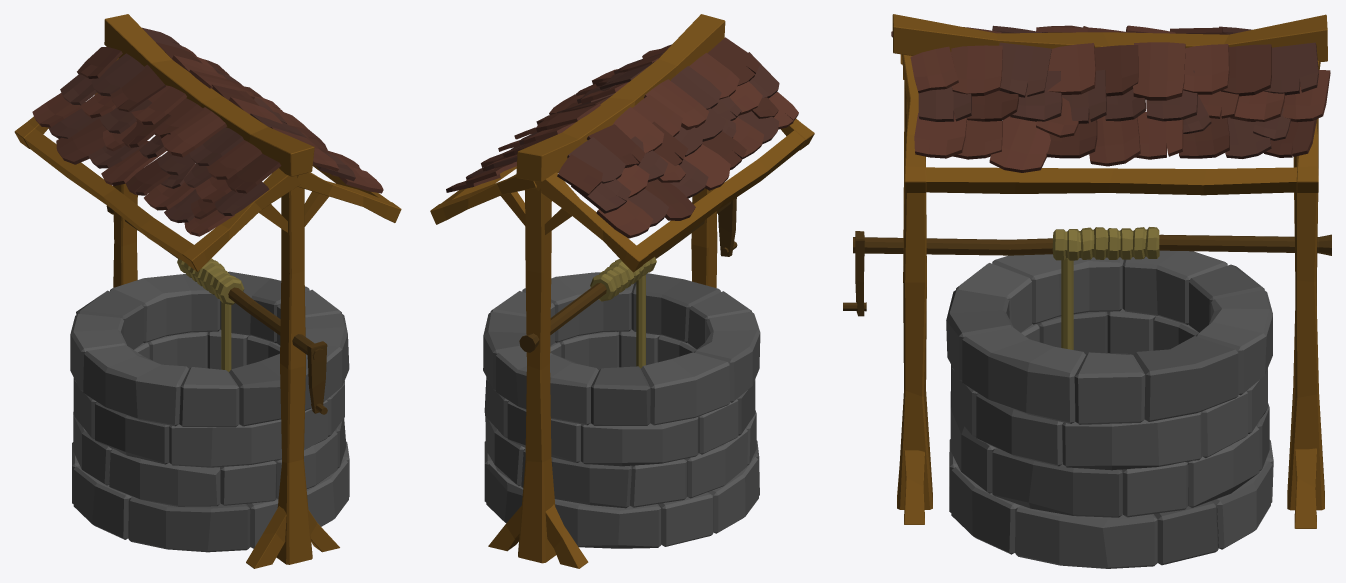
Rendered from well.fbx.
3 views of the same model, side by side, from view 1: azimuth 30°, elevation 25°; view 2: azimuth 150°, elevation 25°; view 3: azimuth 270°, elevation 25° (orthographic). The views are drawn at different scales.
Parts seen in each view (by area): view 1: Cube.002; view 2: Cube.002; view 3: Cube.002.
Boxes of the visible parts, x1,y1,x2,y2 form: Cube.002: (14,14,401,568); Cube.002: (430,14,814,568); Cube.002: (843,14,1331,568).
Size of the model in its own units: 4 by 6.62 by 5.97.
